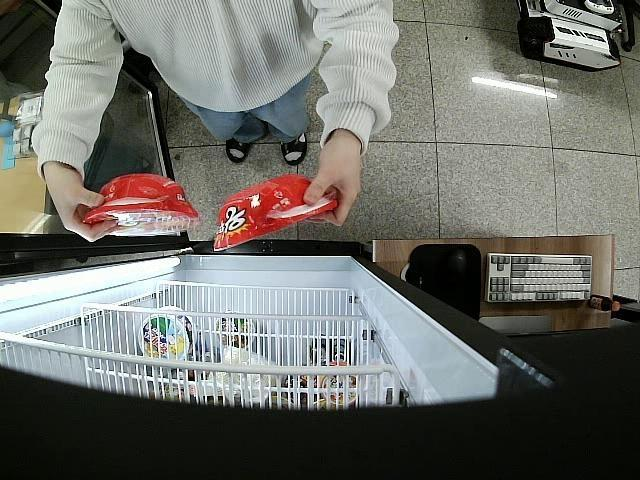10_wangTtukkeong: (212, 172, 338, 252), (83, 172, 200, 236)
